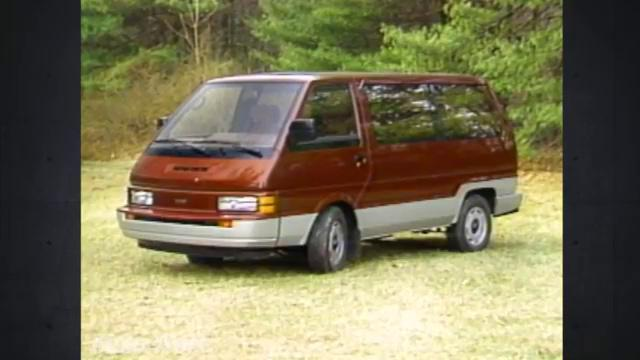van: (118, 71, 524, 269)
